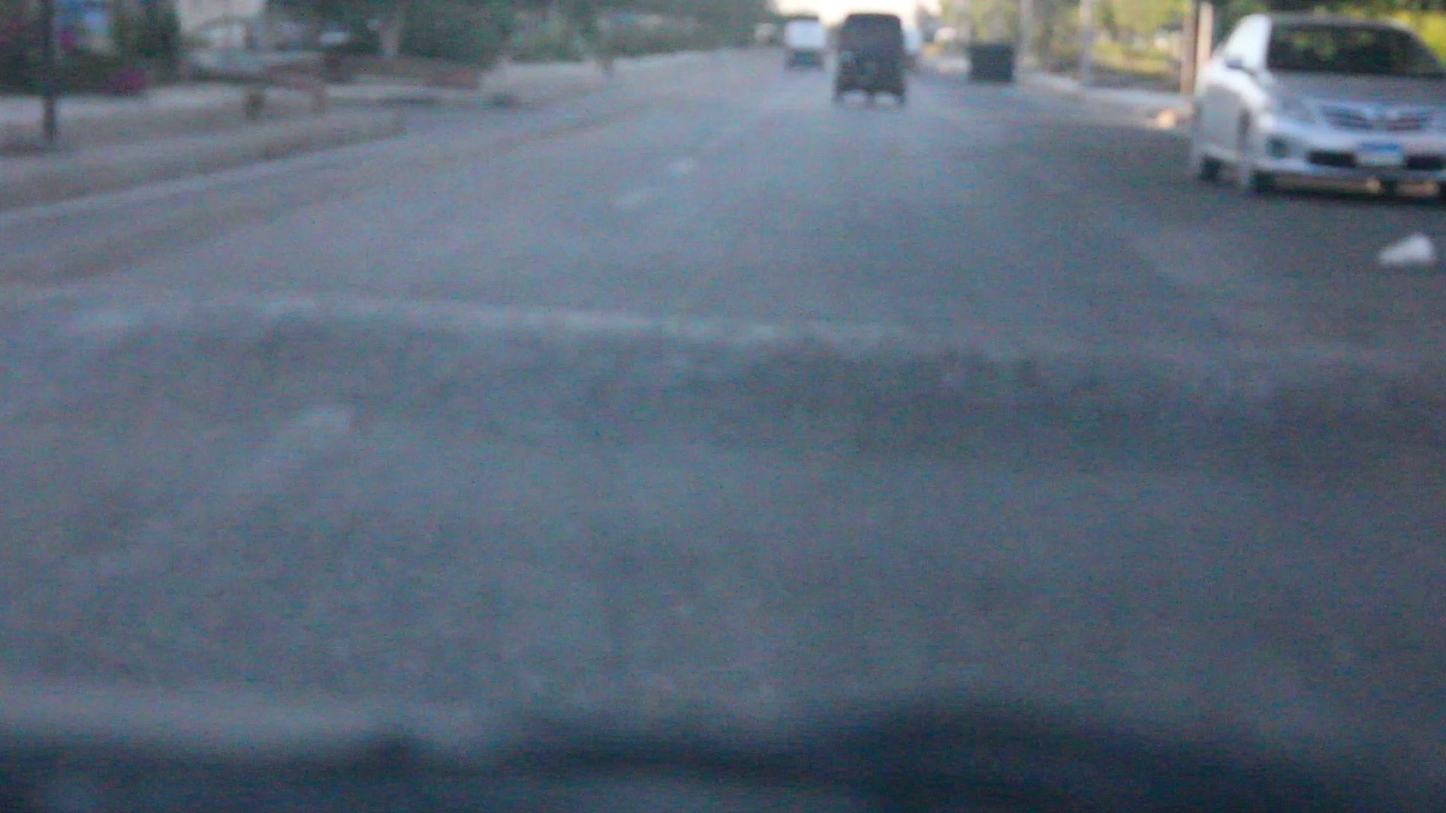Bump: (17, 305, 1446, 480)
